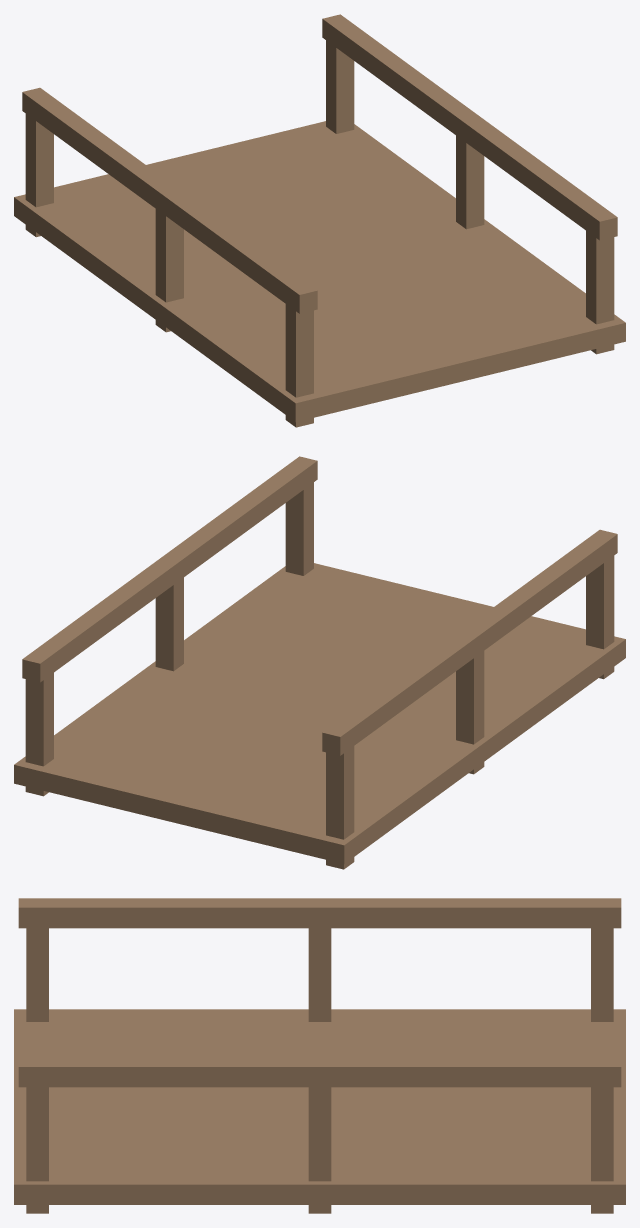
File: bridge.glb
3 renders of one model, top to bottom at view 1: azimuth 30°, elevation 25°; view 2: azimuth 150°, elevation 25°; view 3: azimuth 270°, elevation 25°, orthographic. The views are drawn at different scales.
Visible parts, largest first — view 1: part_0, part_13, part_14, part_2, part_3, part_4, part_11, part_5, part_1, part_10, part_9, part_8 (+9 smaller); view 2: part_12, part_14, part_13, part_10, part_9, part_8, part_1, part_7, part_11, part_2, part_3, part_4 (+9 smaller); view 3: part_13, part_14, part_2, part_3, part_4, part_5, part_7, part_8, part_9, part_10, part_1, part_11 (+9 smaller).
Part boxes in pixels (<box>): part_0: <box>274,311,625,421</box>; part_13: <box>22,87,317,313</box>; part_14: <box>322,14,617,240</box>; part_2: <box>230,275,581,389</box>; part_3: <box>209,259,560,374</box>; part_4: <box>187,243,538,358</box>; part_11: <box>35,132,386,247</box>; part_5: <box>165,227,517,342</box>; part_1: <box>252,291,585,405</box>; part_10: <box>57,148,408,263</box>; part_9: <box>79,164,430,278</box>; part_8: <box>100,180,452,294</box>; part_12: <box>14,753,365,863</box>; part_14: <box>22,456,317,682</box>; part_13: <box>322,529,617,755</box>; part_10: <box>58,717,409,831</box>; part_9: <box>79,701,430,816</box>; part_8: <box>101,685,452,800</box>; part_1: <box>253,574,604,689</box>; part_7: <box>122,669,474,784</box>; part_11: <box>54,733,387,847</box>; part_2: <box>231,590,582,705</box>; part_3: <box>209,606,560,720</box>; part_4: <box>187,622,539,736</box>; part_13: <box>18,898,621,928</box>; part_14: <box>18,1057,621,1087</box>; part_2: <box>108,1009,155,1204</box>; part_3: <box>155,1009,202,1204</box>; part_4: <box>202,1009,249,1204</box>; part_5: <box>249,1009,296,1204</box>; part_7: <box>343,1009,390,1204</box>; part_8: <box>390,1009,437,1204</box>; part_9: <box>437,1009,484,1204</box>; part_10: <box>484,1009,531,1204</box>; part_1: <box>61,1009,107,1204</box>; part_11: <box>532,1009,578,1204</box>.
Bounding box in the file's own units: 2.2 × 0.86 × 3.25.
